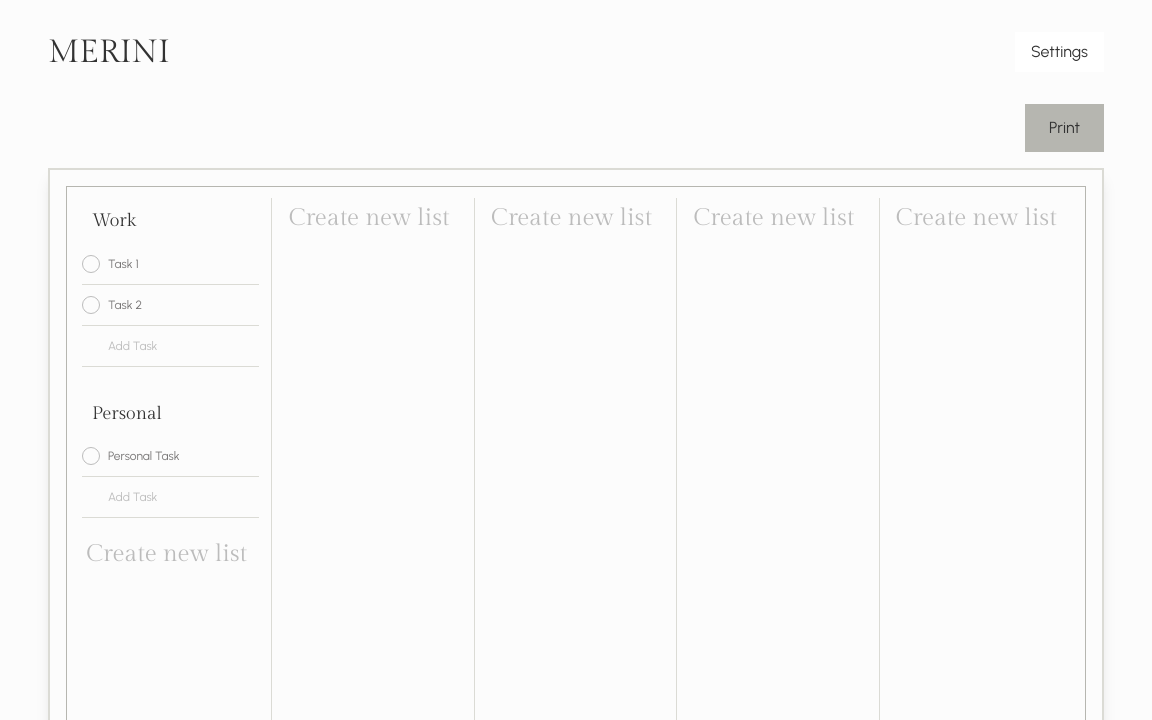
Test: App - Add Task Button Behavior and Styling › opens input field when Add Task button is clicked
Expected: the button "Work" is shown, [92,210,136,231]
Expected: the button "Task 1" is shown, [108,257,139,271]
Click the button with aria-label "add new task to work": (133, 346) [108,339,157,353]
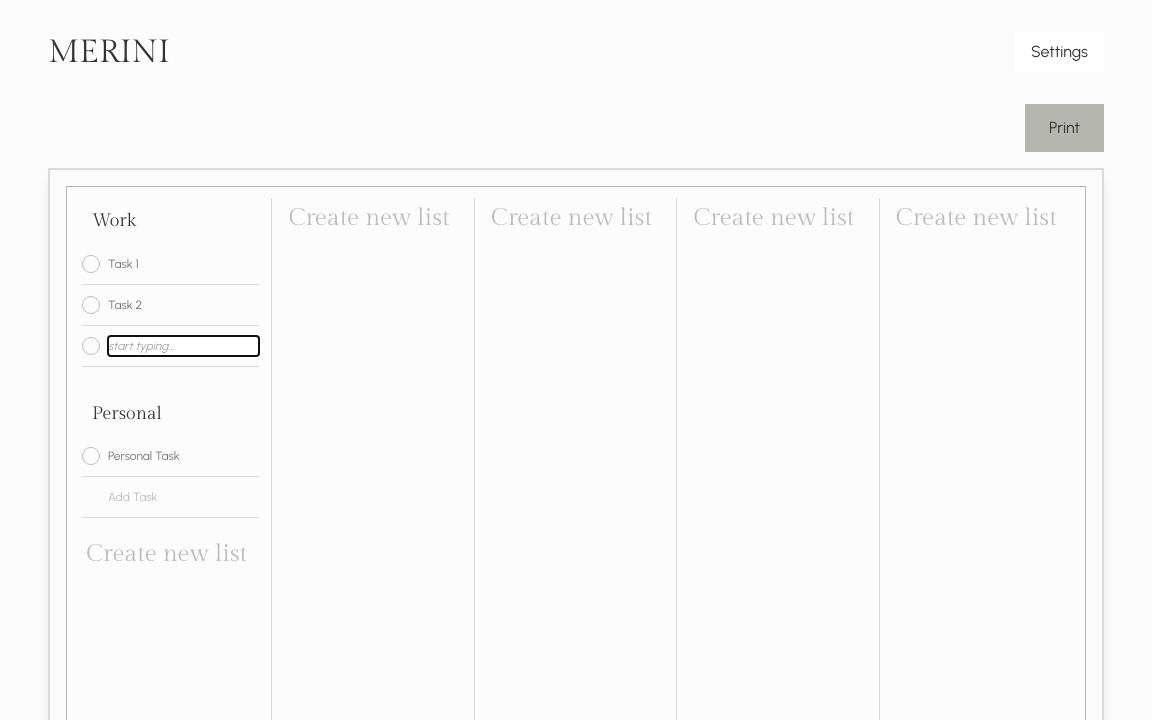
Now the text box with placeholder "start typing..." is shown, box [108,336,259,356]
